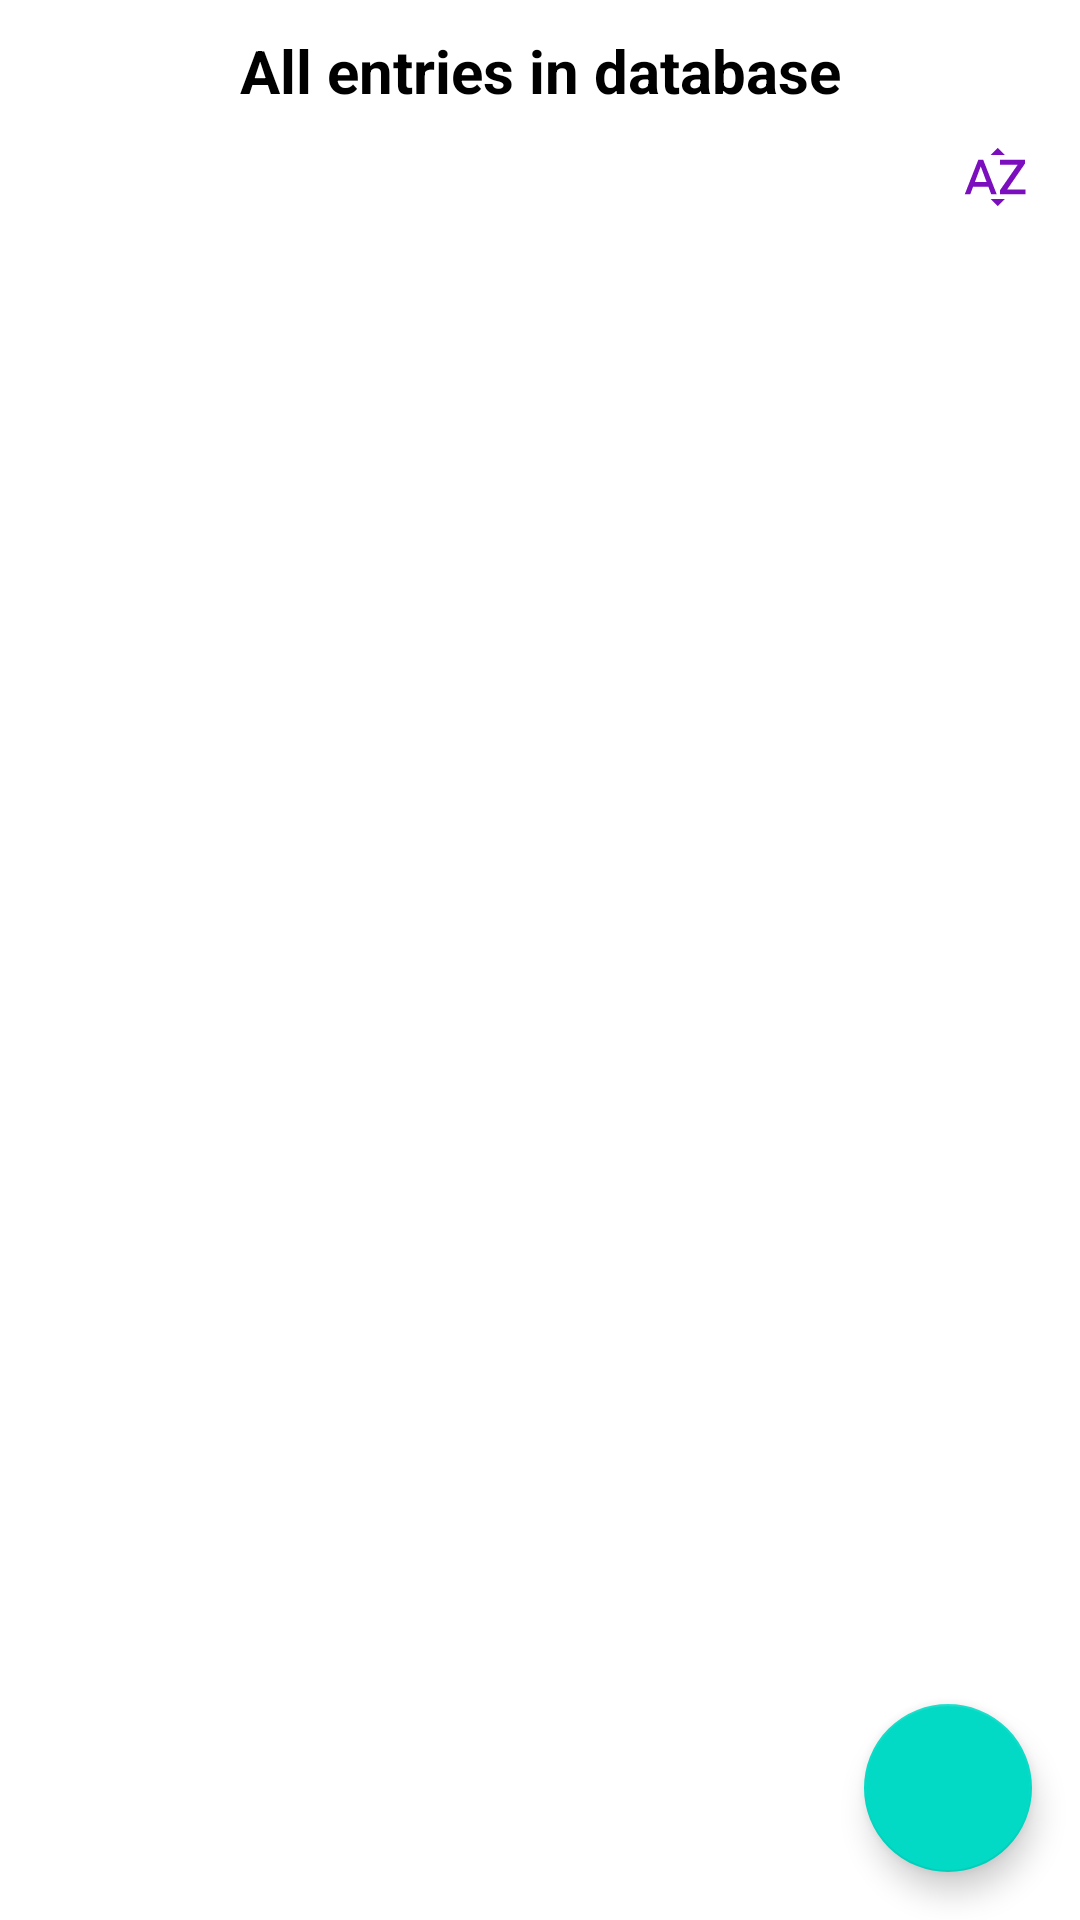

Screen size 1080*1920. Icon name, then its box in pixels as (x1, y1, x2, y2):
sort by: (965, 148, 1026, 206)
